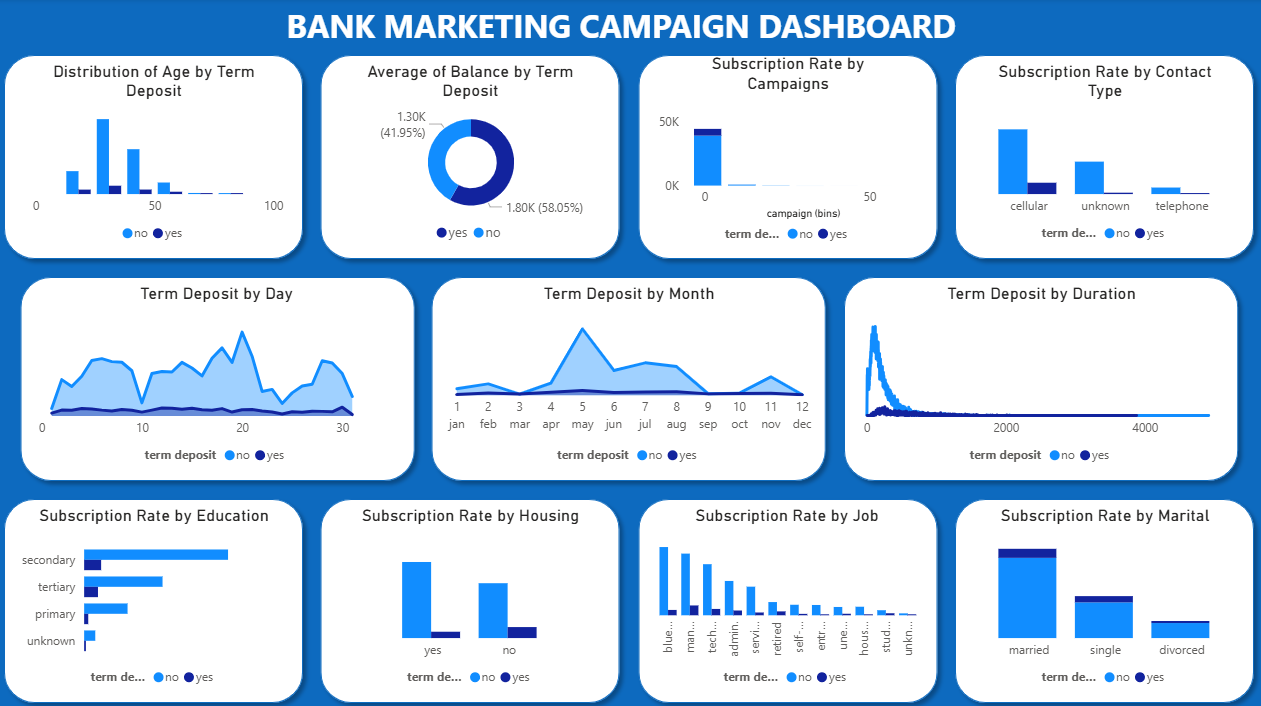

What the dashboard file says about the page in this screenshot:
{"tool":"powerbi","page":{"name":"Page 1","canvas":[1280,720],"ordinal":0},"visuals":[{"type":"textbox","box":[112,0,1040,64],"z":0},{"type":"shape","box":[0,48,320,224],"z":1000},{"type":"clusteredColumnChart","title":"Distribution of Age by Term Deposit","fields":{"Category":["bank-full.age (bins)"],"Y":["CountNonNull(bank-full.Index)"],"Series":["bank-full.term deposit"]},"box":[16,64,288,192],"z":2000},{"type":"shape","box":[432,272,416,224],"z":3000},{"type":"shape","box":[320,48,320,224],"z":4000},{"type":"shape","box":[640,48,320,224],"z":5000},{"type":"shape","box":[960,48,320,224],"z":6000},{"type":"shape","box":[0,496,320,224],"z":7000},{"type":"shape","box":[320,496,320,224],"z":8000},{"type":"shape","box":[640,496,320,224],"z":9000},{"type":"shape","box":[960,496,320,224],"z":10000},{"type":"shape","box":[16,272,416,224],"z":11000},{"type":"shape","box":[848,272,416,224],"z":12000},{"type":"donutChart","title":"Average of Balance by Term Deposit","fields":{"Y":["Avg(bank-full.balance)"],"Category":["bank-full.term deposit"]},"box":[336,64,288,192],"z":13000},{"type":"columnChart","title":"Subscription Rate by Campaigns","fields":{"Series":["bank-full.term deposit"],"Category":["bank-full.campaign (bins)"],"Y":["CountNonNull(bank-full.Index)"]},"box":[664,56,272,200],"z":14000},{"type":"clusteredColumnChart","title":"Subscription Rate by Contact Type","fields":{"Category":["bank-full.contact"],"Y":["CountNonNull(bank-full.Index)"],"Series":["bank-full.term deposit"]},"box":[976,64,288,192],"z":15000},{"type":"lineChart","title":"Term Deposit by Day","fields":{"Category":["bank-full.day"],"Y":["CountNonNull(bank-full.Index)"],"Series":["bank-full.term deposit"]},"box":[32,288,384,192],"z":16000},{"type":"lineChart","title":"Term Deposit by Month","fields":{"Category":["bank-full.month","bank-full.Month Number"],"Y":["CountNonNull(bank-full.Index)"],"Series":["bank-full.term deposit"]},"box":[448,288,384,192],"z":17000},{"type":"lineChart","title":"Term Deposit by Duration","fields":{"Y":["CountNonNull(bank-full.Index)"],"Series":["bank-full.term deposit"],"Category":["bank-full.duration"]},"box":[864,288,384,192],"z":18000},{"type":"clusteredBarChart","title":"Subscription Rate by Education","fields":{"Category":["bank-full.education"],"Y":["CountNonNull(bank-full.Index)"],"Series":["bank-full.term deposit"]},"box":[16,512,288,192],"z":19000},{"type":"clusteredColumnChart","title":"Subscription Rate by Housing","fields":{"Y":["CountNonNull(bank-full.Index)"],"Series":["bank-full.term deposit"],"Category":["bank-full.housing"]},"box":[336,512,288,192],"z":20000},{"type":"clusteredColumnChart","title":"Subscription Rate by Job","fields":{"Y":["CountNonNull(bank-full.Index)"],"Series":["bank-full.term deposit"],"Category":["bank-full.job"]},"box":[656,512,288,192],"z":21000},{"type":"columnChart","title":"Subscription Rate by Marital","fields":{"Y":["CountNonNull(bank-full.Index)"],"Series":["bank-full.term deposit"],"Category":["bank-full.marital"]},"box":[976,512,288,192],"z":22000}]}

Visuals, with their boxes in screenshot pixels (x1, y1, x2, y2), scaled from the page's 1280x720 canvas onto the 1261x706 screenshot:
textbox: select_region(110, 0, 1135, 63)
shape: select_region(0, 47, 315, 267)
"Distribution of Age by Term Deposit" clusteredColumnChart: select_region(16, 63, 299, 251)
shape: select_region(426, 267, 835, 486)
shape: select_region(315, 47, 630, 267)
shape: select_region(630, 47, 946, 267)
shape: select_region(946, 47, 1260, 267)
shape: select_region(0, 486, 315, 705)
shape: select_region(315, 486, 630, 705)
shape: select_region(630, 486, 946, 705)
shape: select_region(946, 486, 1260, 705)
shape: select_region(16, 267, 426, 486)
shape: select_region(835, 267, 1245, 486)
"Average of Balance by Term Deposit" donutChart: select_region(331, 63, 615, 251)
"Subscription Rate by Campaigns" columnChart: select_region(654, 55, 922, 251)
"Subscription Rate by Contact Type" clusteredColumnChart: select_region(962, 63, 1245, 251)
"Term Deposit by Day" lineChart: select_region(32, 282, 410, 471)
"Term Deposit by Month" lineChart: select_region(441, 282, 820, 471)
"Term Deposit by Duration" lineChart: select_region(851, 282, 1229, 471)
"Subscription Rate by Education" clusteredBarChart: select_region(16, 502, 299, 690)
"Subscription Rate by Housing" clusteredColumnChart: select_region(331, 502, 615, 690)
"Subscription Rate by Job" clusteredColumnChart: select_region(646, 502, 930, 690)
"Subscription Rate by Marital" columnChart: select_region(962, 502, 1245, 690)
